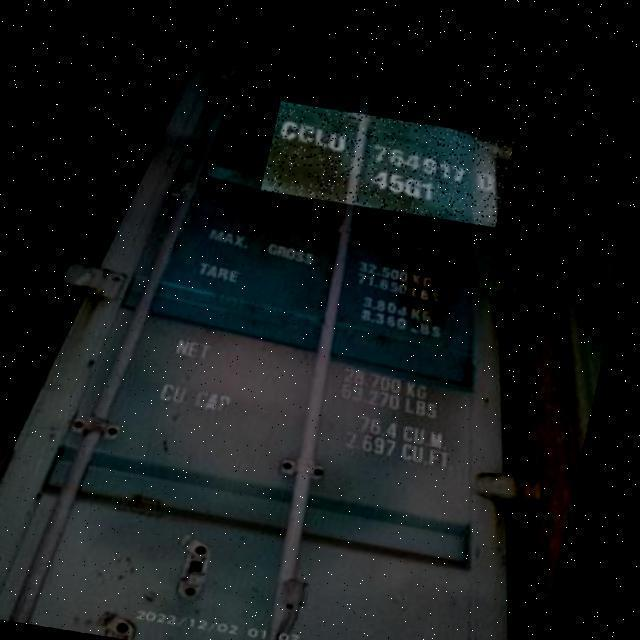container_number_h: (262, 97, 520, 222)
